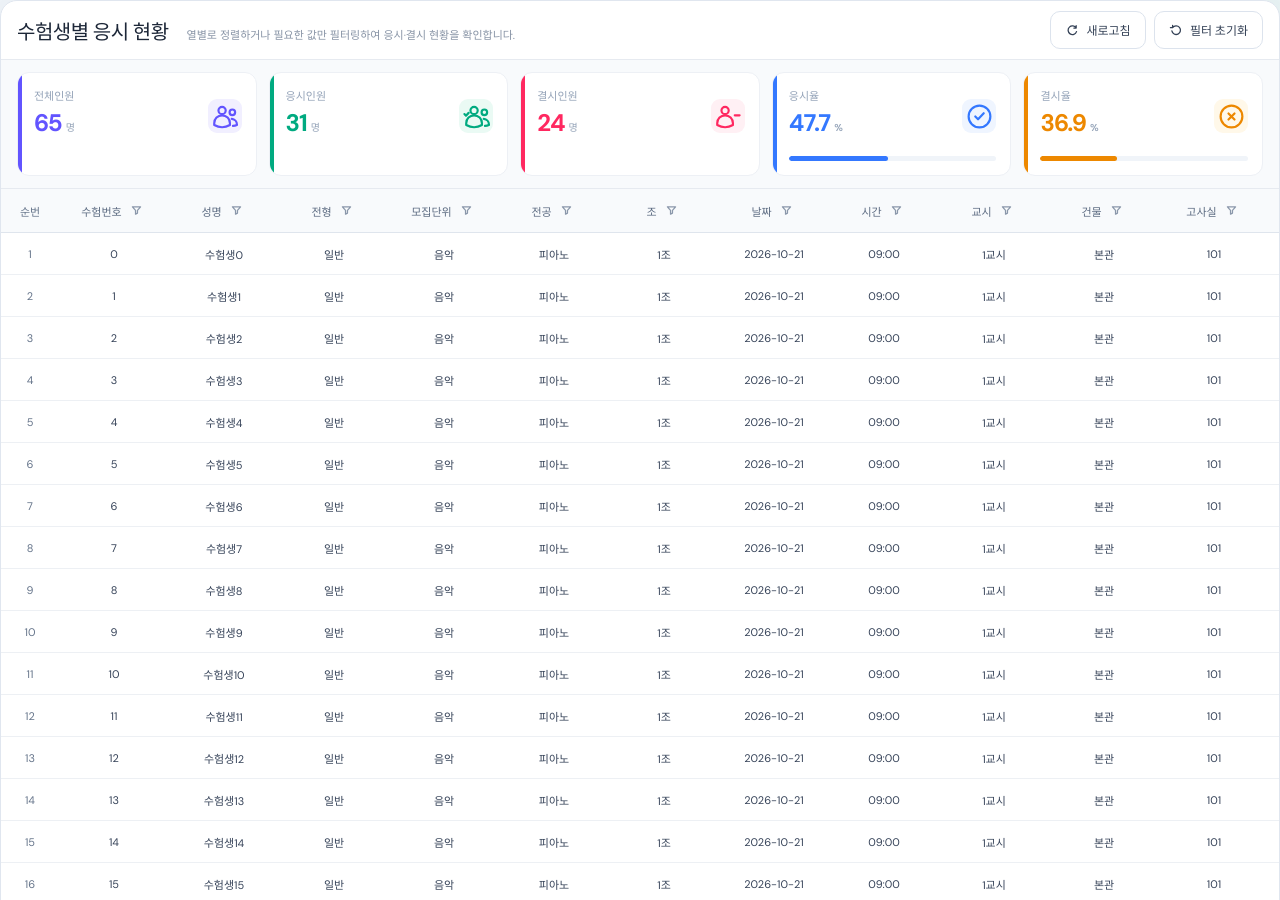
Test: AttendanceStatusPage › totals all filtered candidates across pages
expect the text "전체인원" shows "65명": met, box [17,72,257,176]
Click the button named "전형 필터" at coordinates (347, 210), box [335,196,359,224]
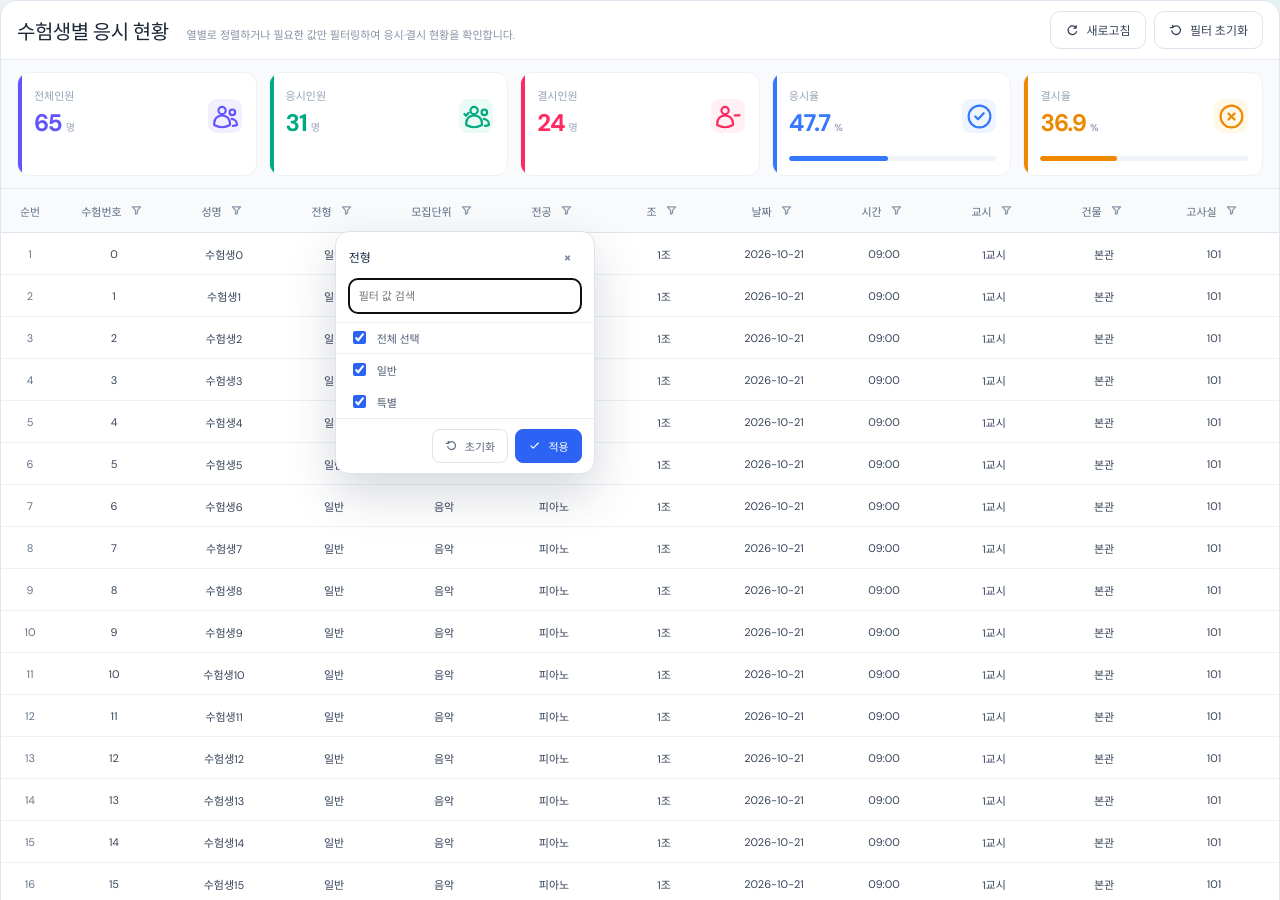
Click the checkbox labelled "일반" at coordinates (359, 370), box [353,363,366,376]
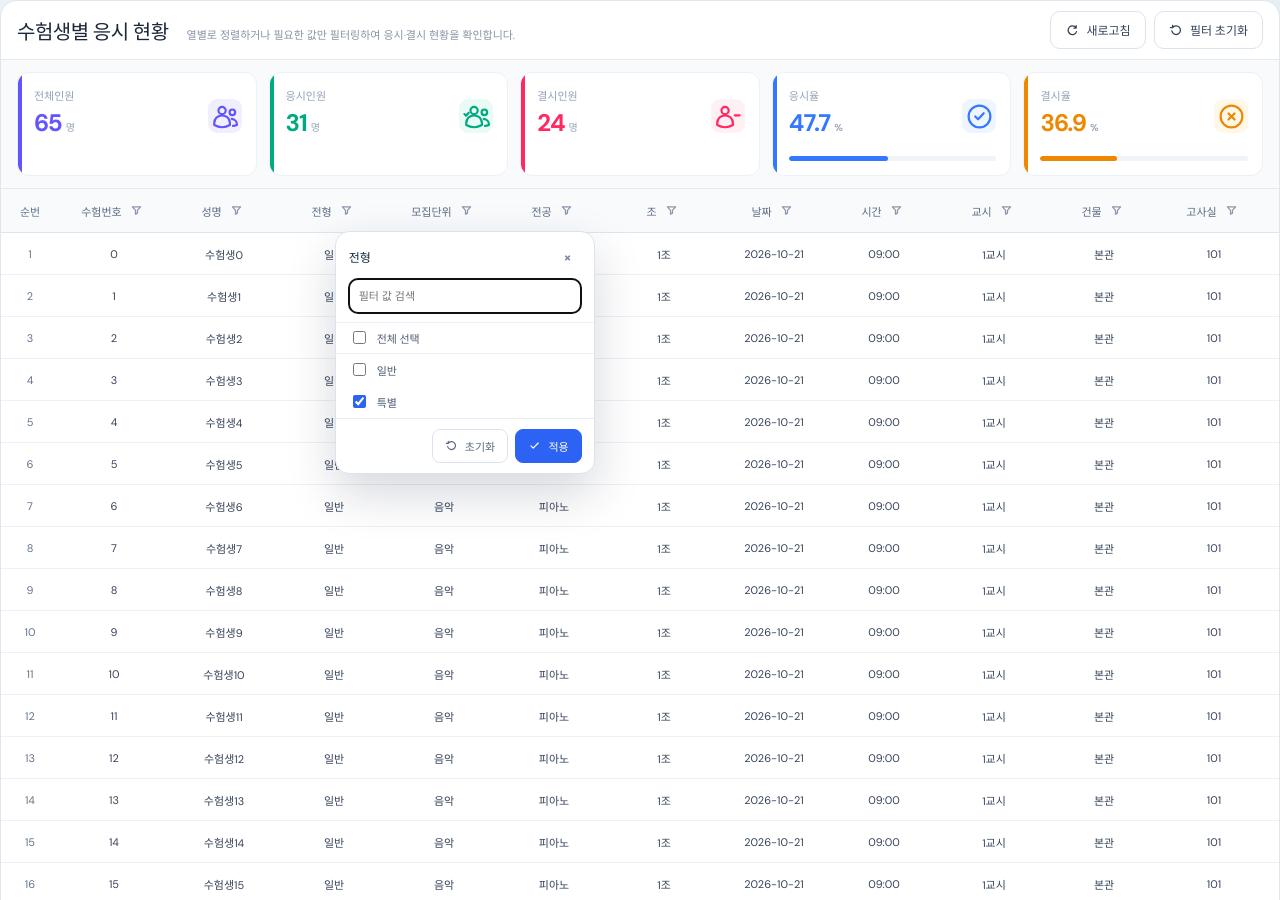
Click the button "적용" at coordinates (548, 446), box [515,428,582,462]
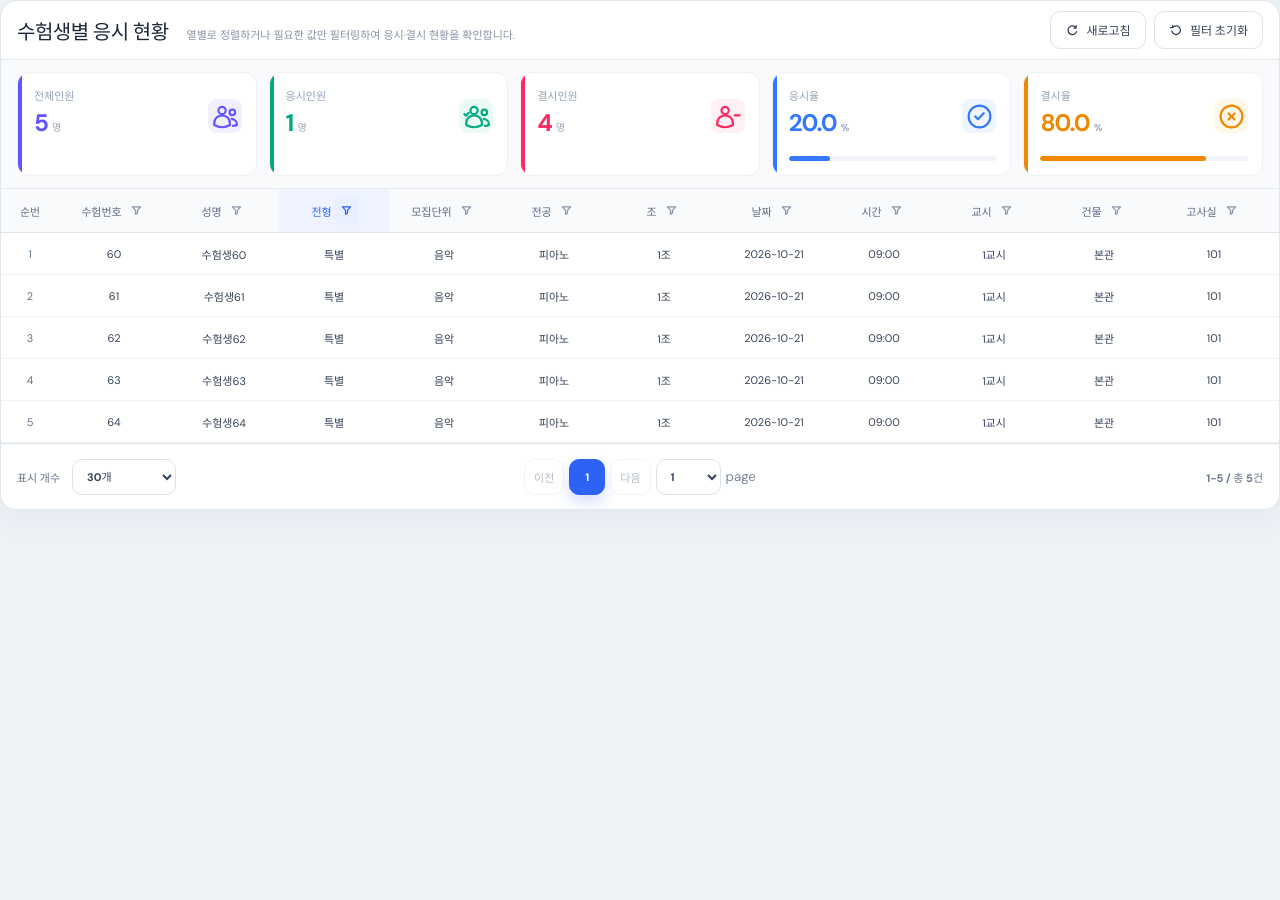
expect the text "전체인원" shows "5명": met, box [17,72,257,176]
expect the number of rows is 6: met, box [1,189,1279,233]; [1,233,1279,275]; [1,275,1279,317]; [1,317,1279,359]; [1,359,1279,401]; [1,401,1279,443]
